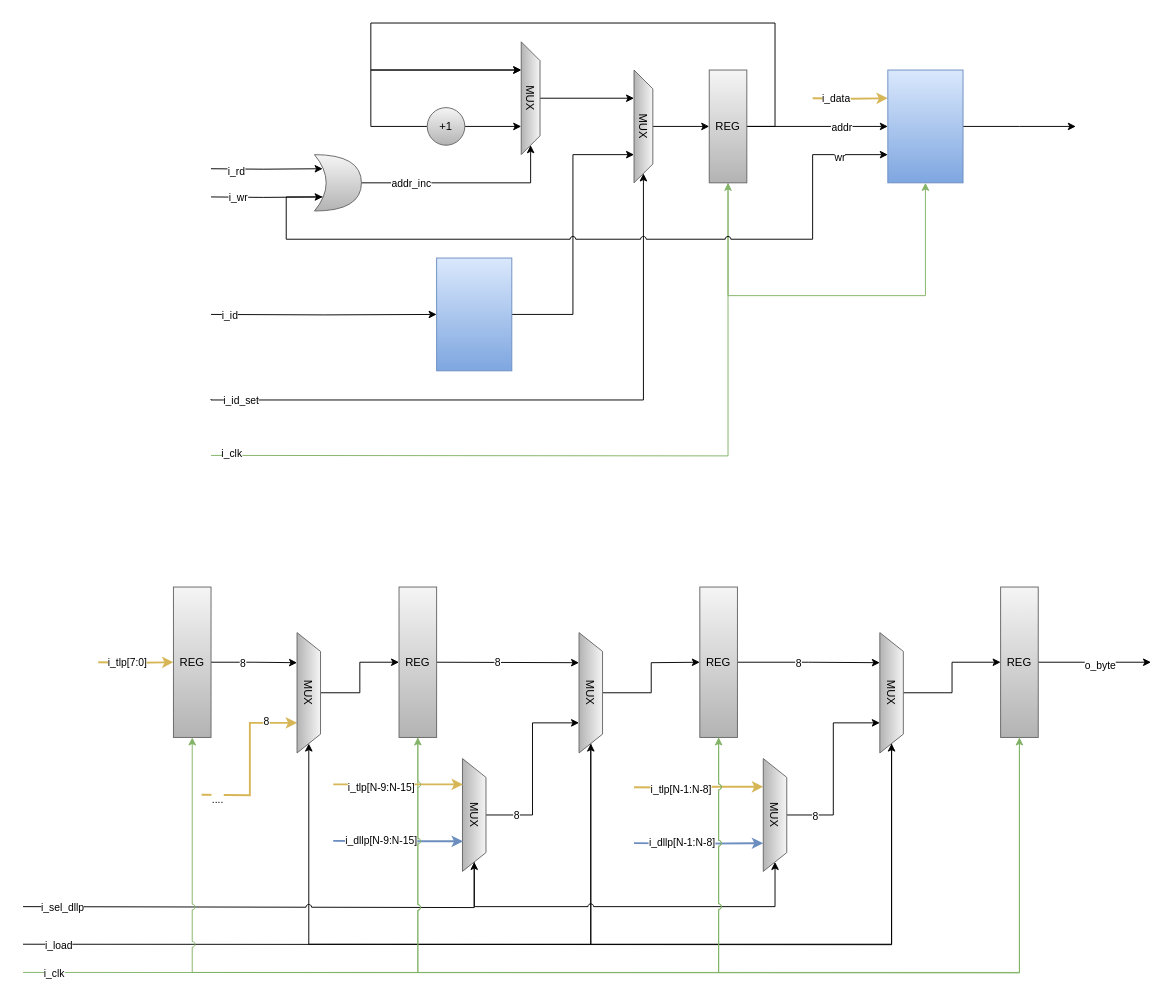
Image size: 1175x997. Some labels were removed from this diagram. The shapes that lost their labels are listed below. From the top down, each one's centre as x and y in pixels, then its label:
At (x=925, y=126): "RAM".
At (x=337, y=182): "OR".
At (x=474, y=314): "LUT".
